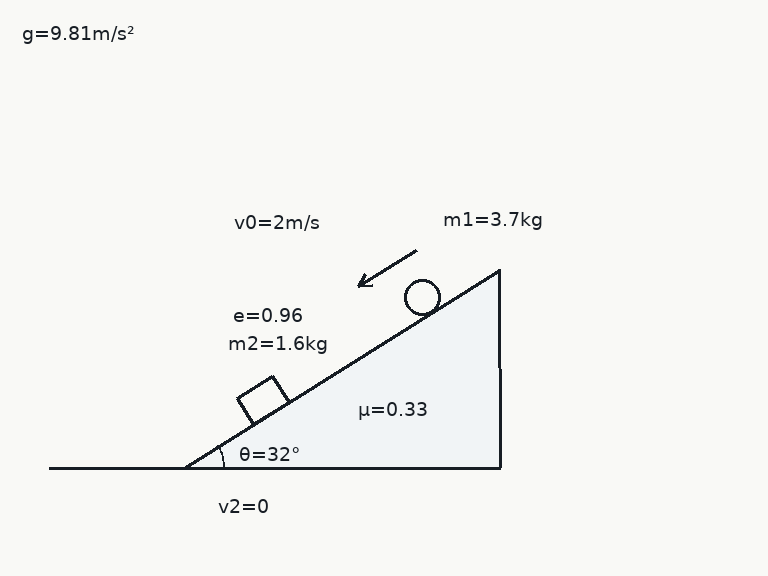ball: (402, 277, 442, 317)
block: (235, 374, 291, 426)
ramp: (182, 267, 502, 469)
